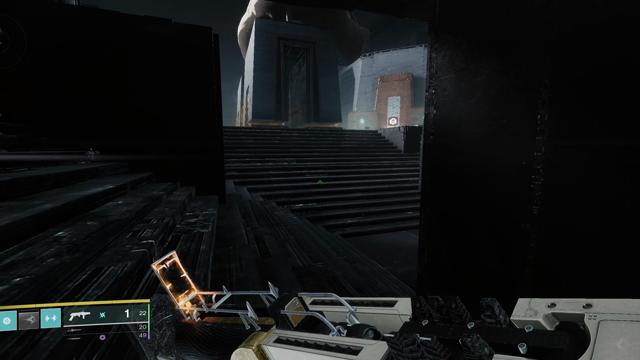worship: (390, 118, 397, 125)
